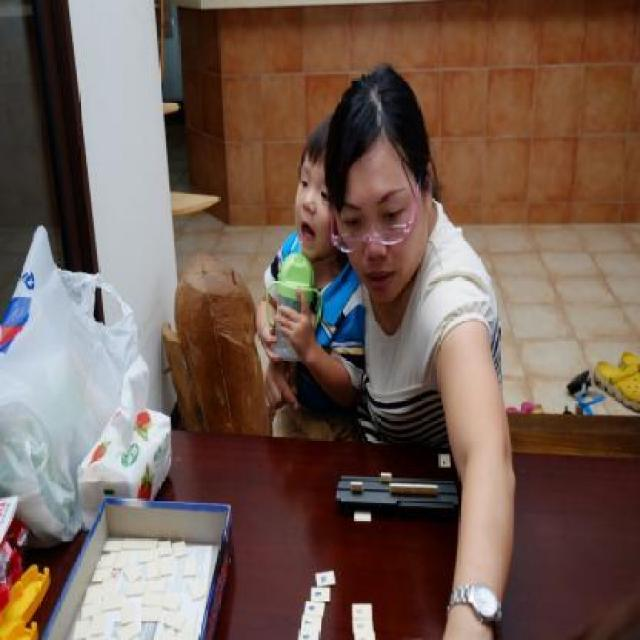plastic bag: (0, 223, 151, 545)
